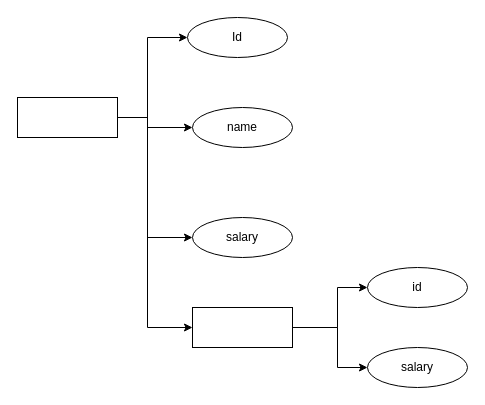
Some shapes in this 485 by 405 pixel diagram are drawn without their labels. Each missing label, with the centre of its shape:
Department: the point at 242,327
Employee: the point at 67,117
